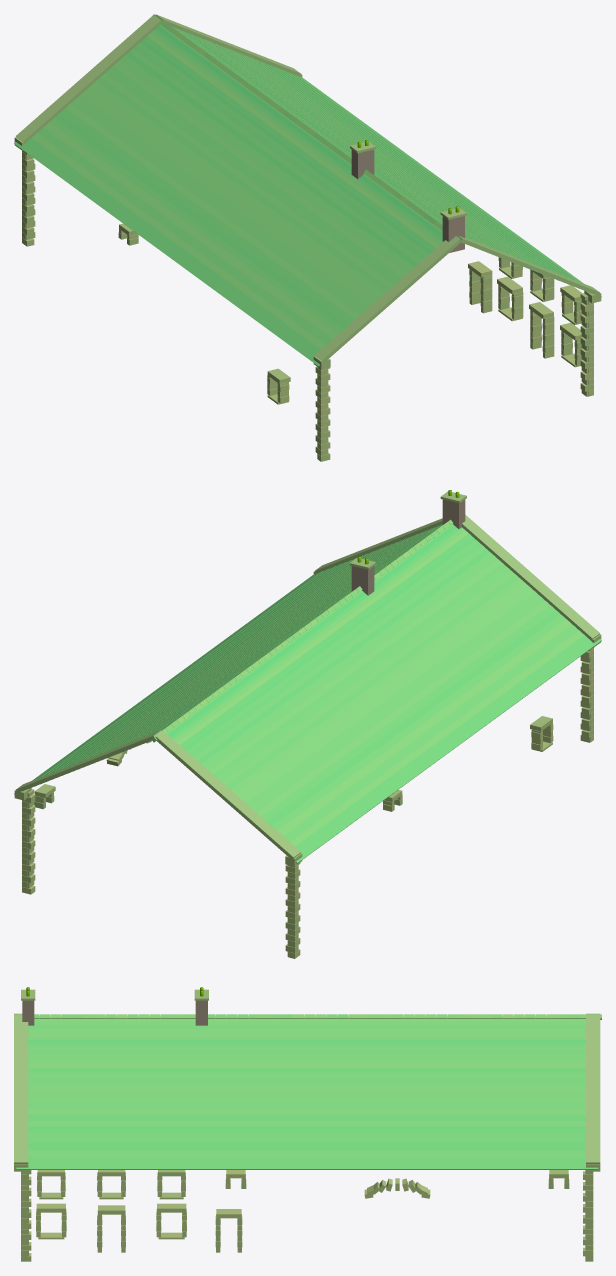
File: SM_Bld_029_Stone.glb
The picture shows the model from 3 angles, top to bottom: view 1: azimuth 30°, elevation 25°; view 2: azimuth 150°, elevation 25°; view 3: azimuth 270°, elevation 25°; orthographic projection. The views are drawn at different scales.
Visible parts, largest first — view 1: SM_Bld_029_Stone; view 2: SM_Bld_029_Stone; view 3: SM_Bld_029_Stone.
Part boxes in pixels (x1,y1,x2,y2): SM_Bld_029_Stone: (14,14,601,461); SM_Bld_029_Stone: (14,490,601,958); SM_Bld_029_Stone: (14,987,601,1261).
Bounding box in the file's own units: 15.61 × 11.45 × 29.3.
